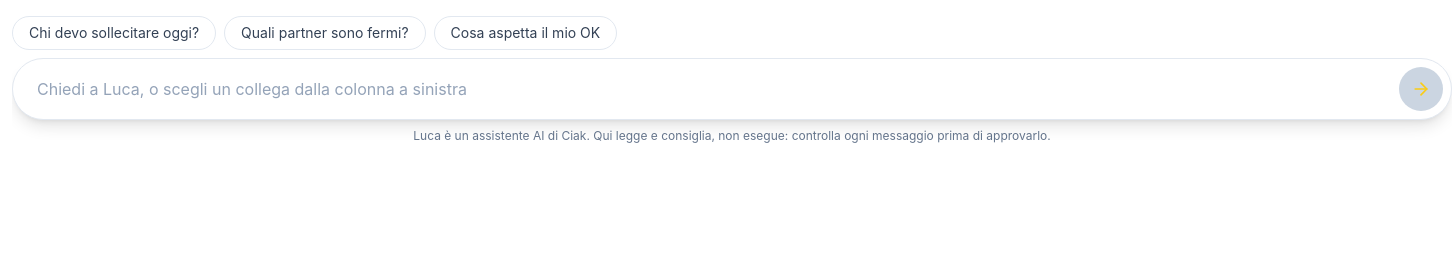
se Luca non risponde lo dice, non inventa
Click the button "Cosa aspetta il mio OK": [525, 33] box [434,16,617,50]
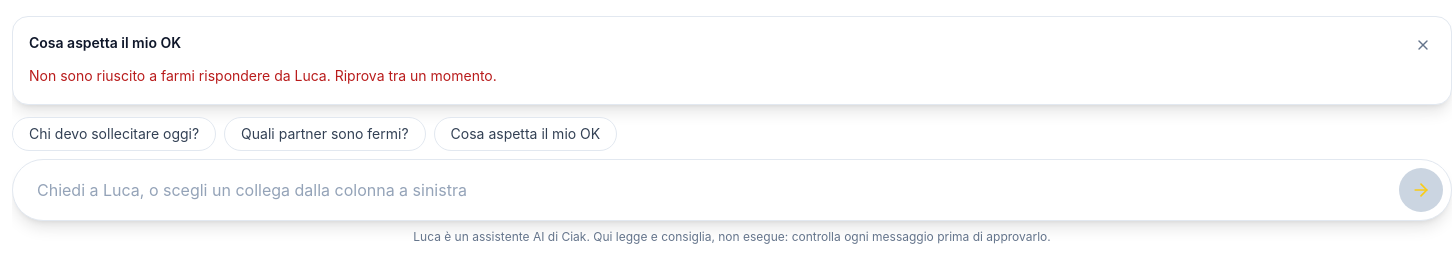
Expected: the text "Non sono riuscito a farmi rispondere da Luca" is shown, [29,67,497,84]
